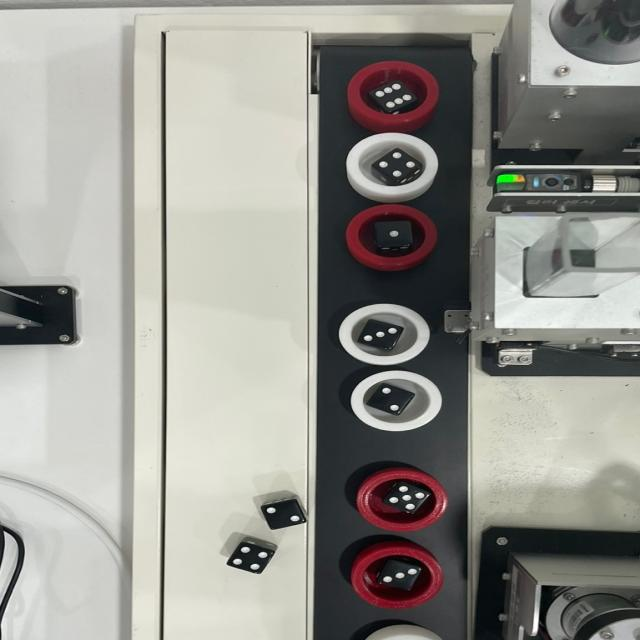DICE1: (375, 222, 416, 248)
DICE2: (372, 386, 413, 414), (261, 504, 302, 524)
DICE3: (358, 322, 406, 348), (379, 562, 423, 590)
DICE4: (374, 149, 416, 177), (232, 545, 268, 571)
DICE5: (388, 484, 426, 509)
DICE6: (374, 82, 414, 109)
RedChip: (346, 60, 442, 126), (345, 205, 443, 269), (350, 546, 445, 610), (358, 471, 451, 532)
WhiteChip: (345, 132, 441, 198), (350, 371, 442, 434), (338, 302, 431, 364)
